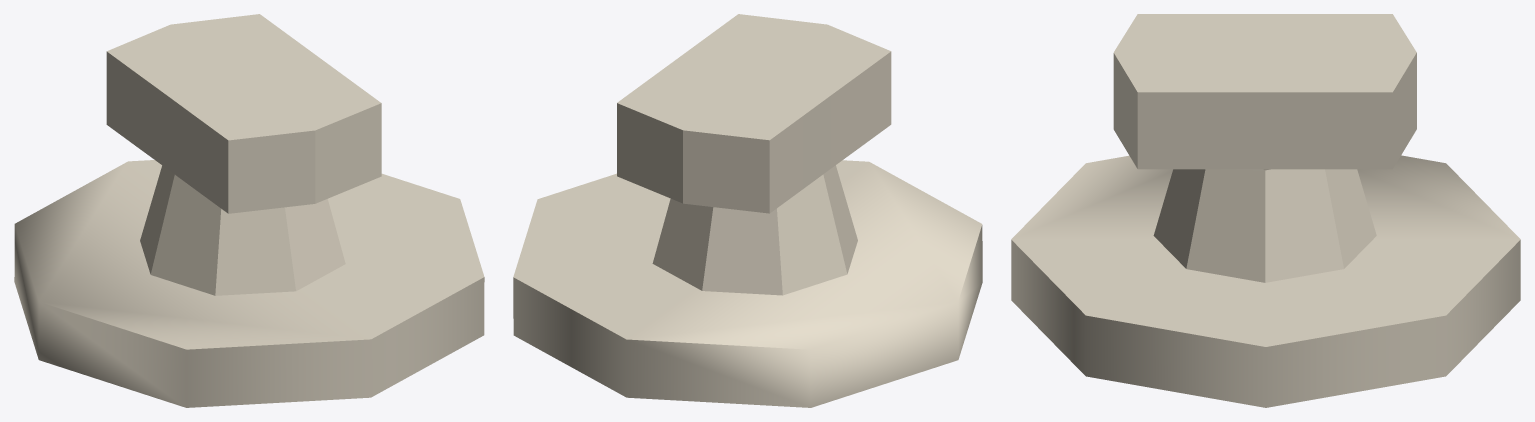
The model's file is Gas Valve.FBX.
The picture shows the model from 3 angles, left to right: view 1: azimuth 30°, elevation 25°; view 2: azimuth 150°, elevation 25°; view 3: azimuth 270°, elevation 25°; orthographic projection. The views are drawn at different scales.
Parts seen in each view (by area): view 1: gas valve014; view 2: gas valve014; view 3: gas valve014.
Boxes of the visible parts, x1=… form: gas valve014: x1=14, y1=14, x2=484, y2=407; gas valve014: x1=513, y1=14, x2=982, y2=407; gas valve014: x1=1011, y1=14, x2=1520, y2=407.
Bounding box in the file's own units: 7.33 × 3.88 × 7.33.
